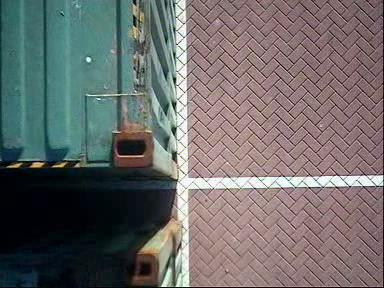groundmarker_2: (9, 1, 105, 144)
